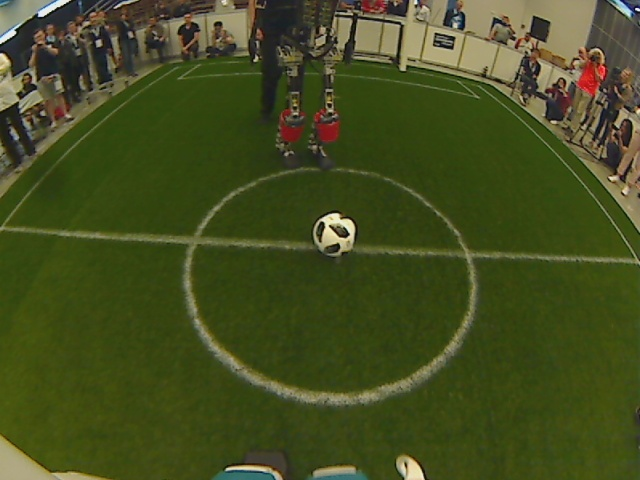ball: (310, 210, 361, 258)
